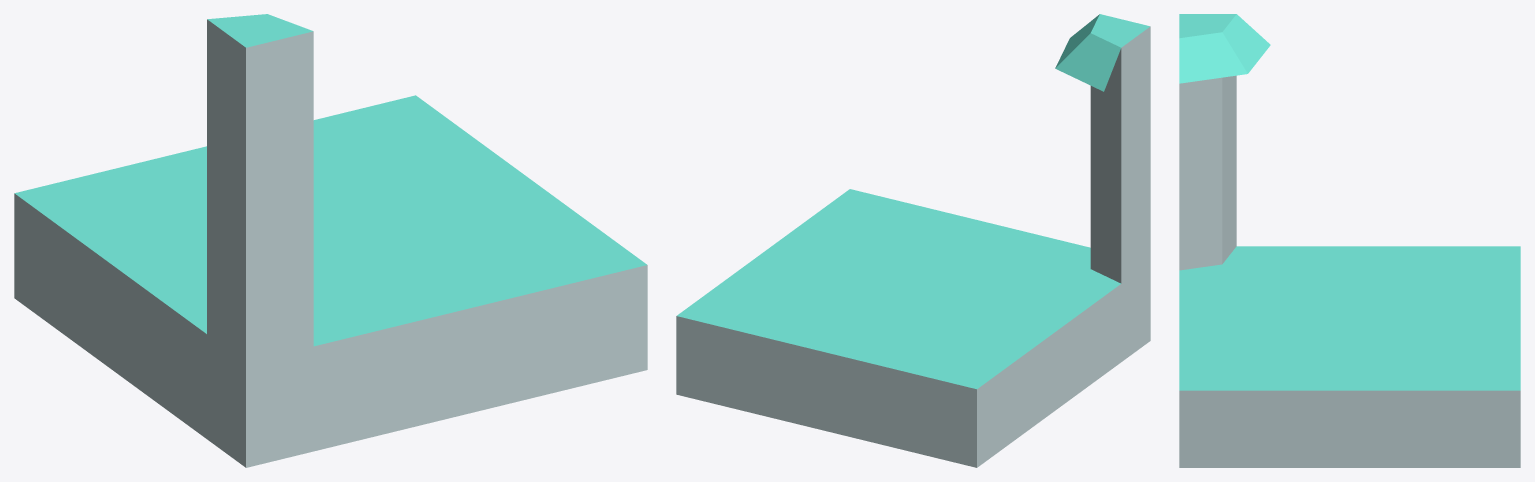
File: cliff_cornerTop_quarter_stone.glb
3 views of the same model, side by side, from view 1: azimuth 30°, elevation 25°; view 2: azimuth 150°, elevation 25°; view 3: azimuth 270°, elevation 25° (orthographic). The views are drawn at different scales.
Visible parts, largest first — view 1: cliff_cornerTop_quarter_stone; view 2: cliff_cornerTop_quarter_stone; view 3: cliff_cornerTop_quarter_stone.
Part boxes in pixels (left/top/right/bottom): cliff_cornerTop_quarter_stone: left=14, top=14, right=647, bottom=467; cliff_cornerTop_quarter_stone: left=676, top=14, right=1150, bottom=467; cliff_cornerTop_quarter_stone: left=1179, top=14, right=1520, bottom=467.
Size of the model in its own units: 1 by 1 by 1.
